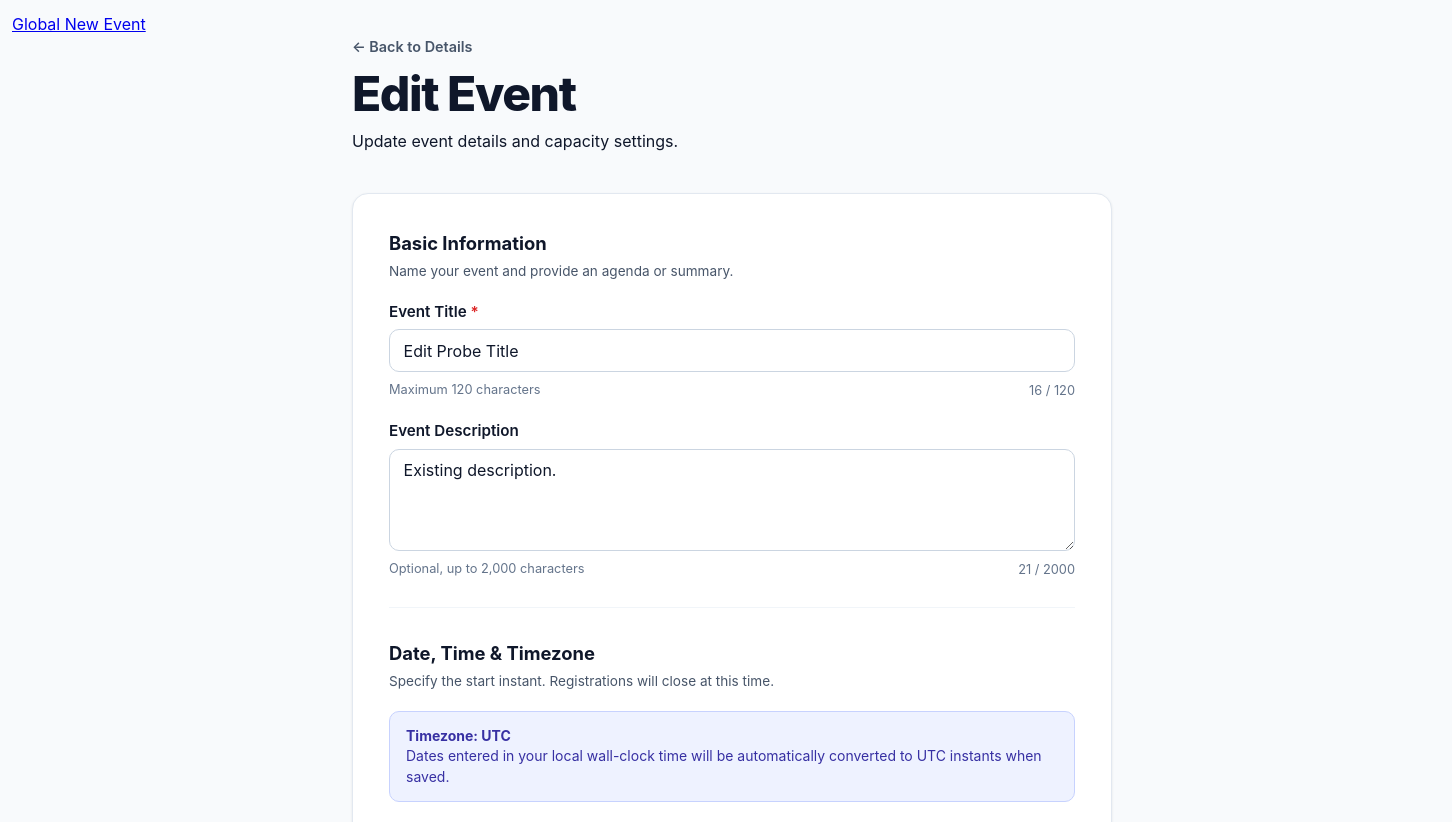
Scenario: EventFormPage Component › F09: resets form completely when navigating from edit to create
Expected: the heading "Edit Event" is shown, [352,64,576,123]
Expected: the field labelled "Event Title *" holds "Edit Probe Title", [389,329,1075,372]
Navigate to Create New Event via link
Click the link "Global New Event" at (79, 24), box [12,14,146,34]
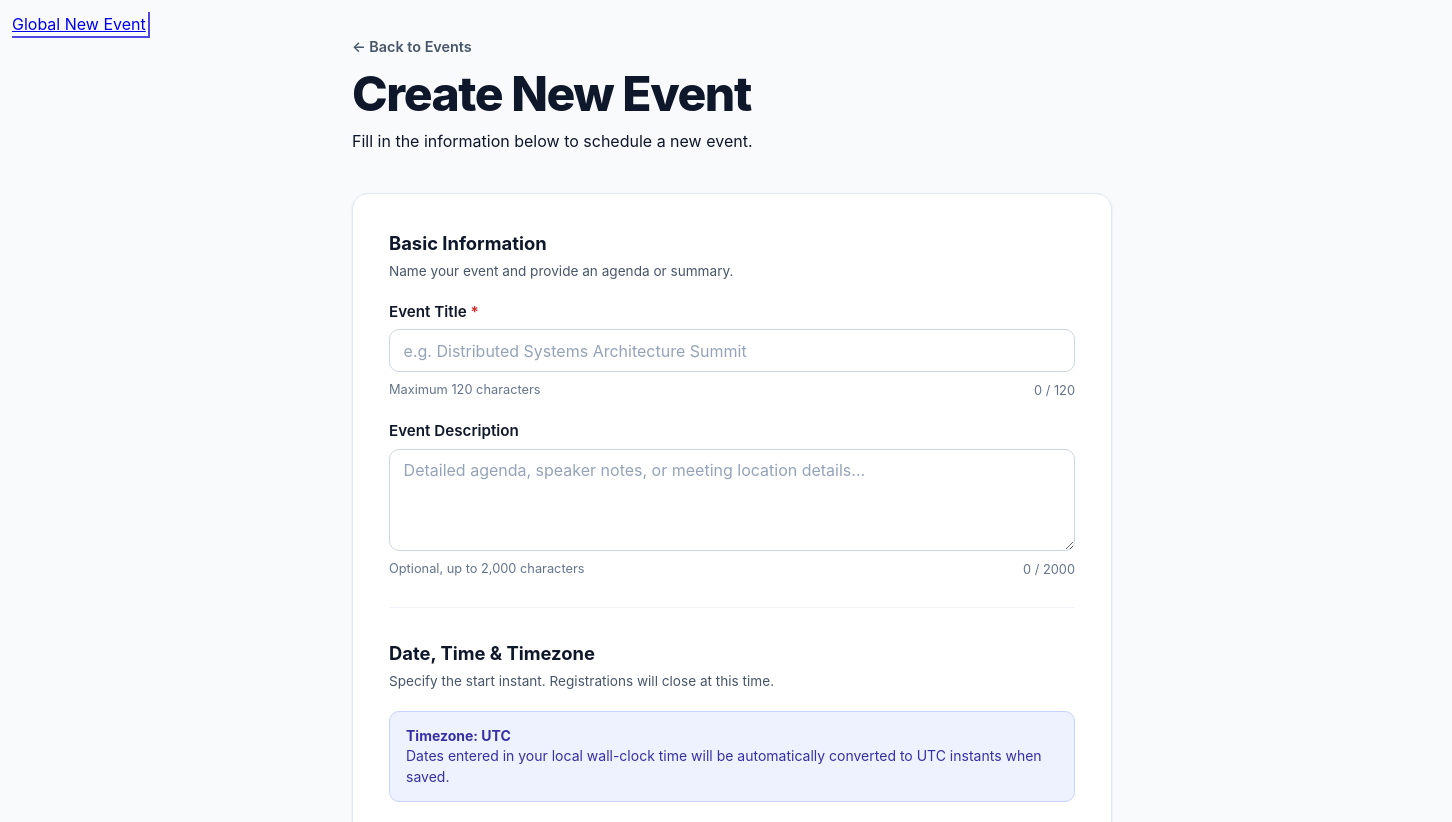
Expected: the heading "Create New Event" is shown, [352,64,751,123]
Expected: the field labelled "Event Title *" is empty, [389,329,1075,372]
Expected: the text box labelled "Event Description" is empty, [389,448,1075,551]
